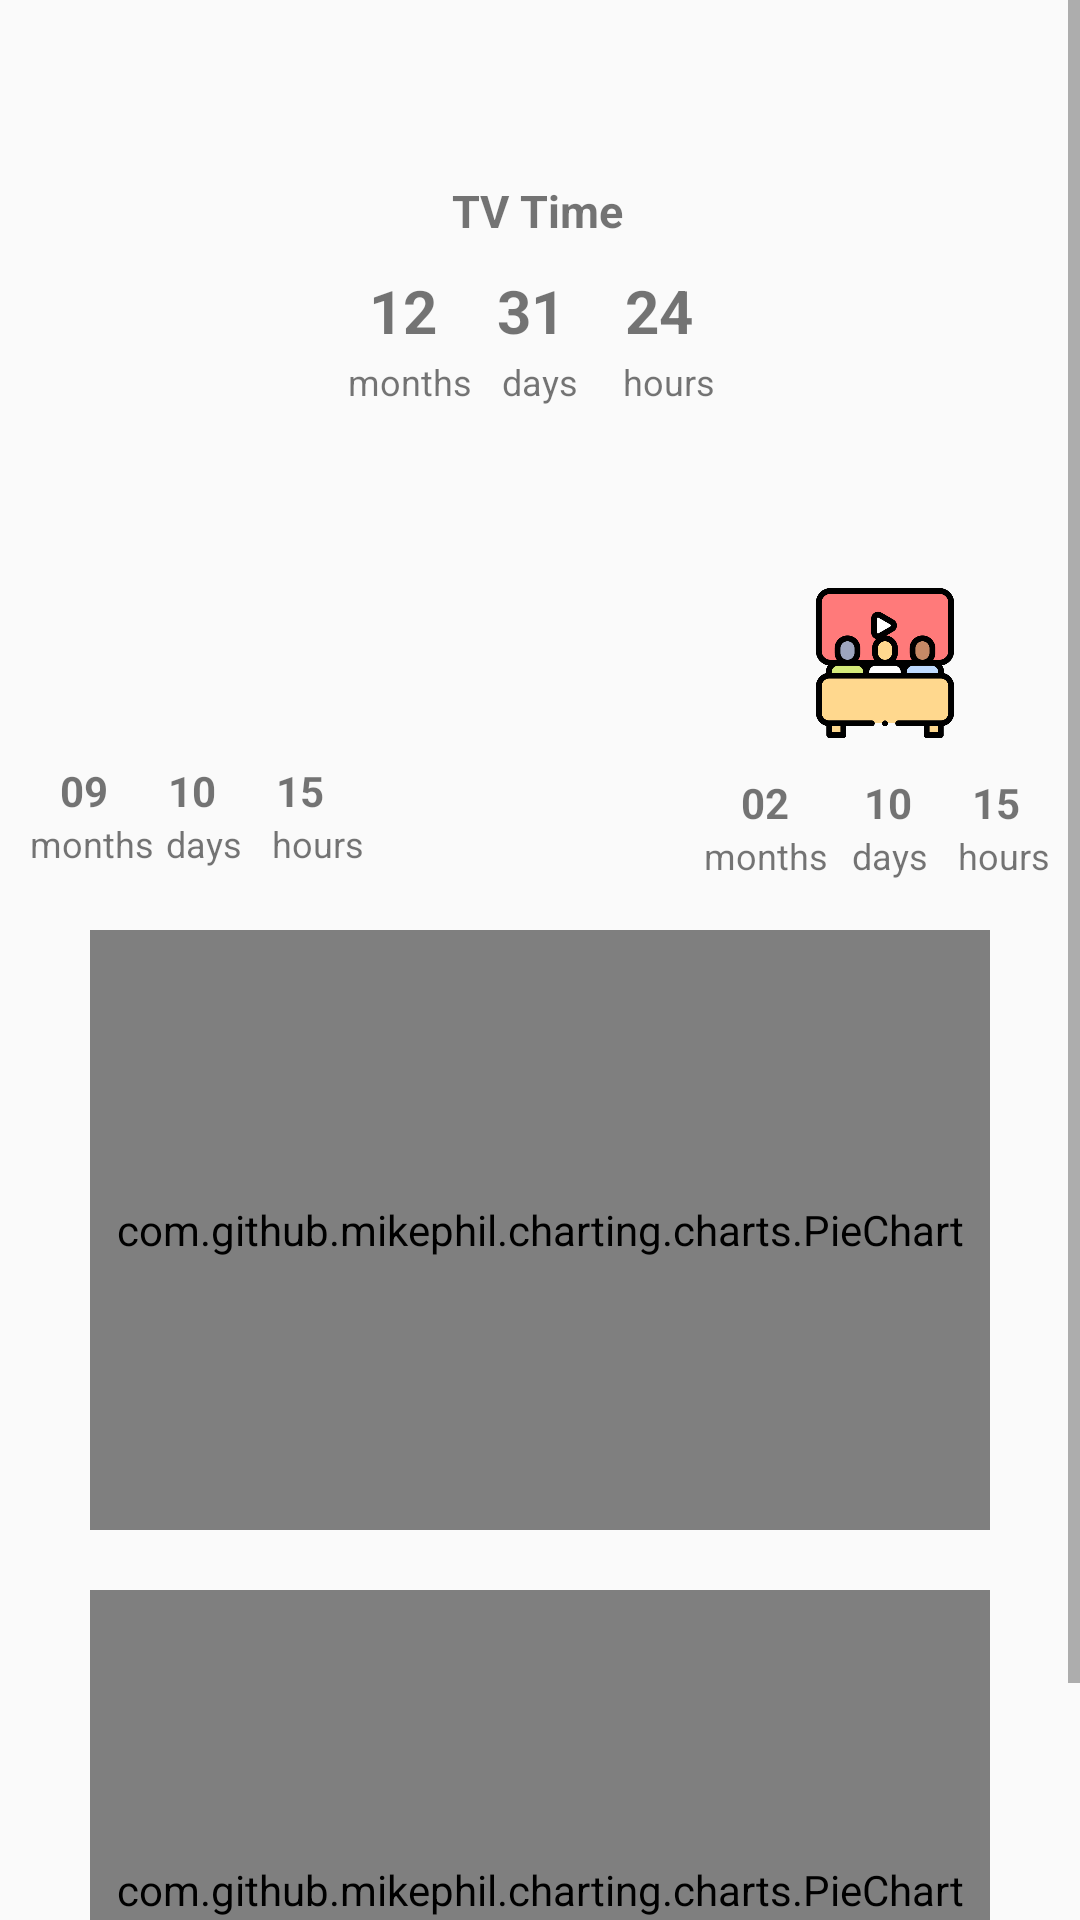

Icons on this 1080px×1920px Android screen, each with its box as box=[x1, y1, x2, y2]:
serie: box=[816, 588, 954, 738]
